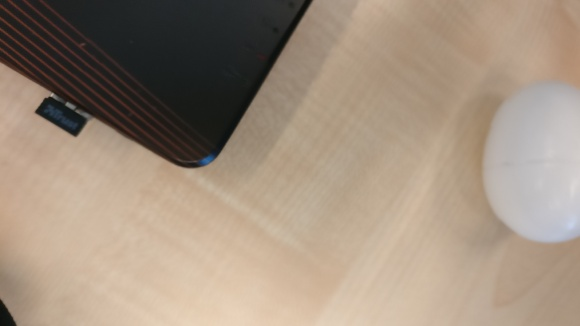egg: (485, 79, 578, 243)
